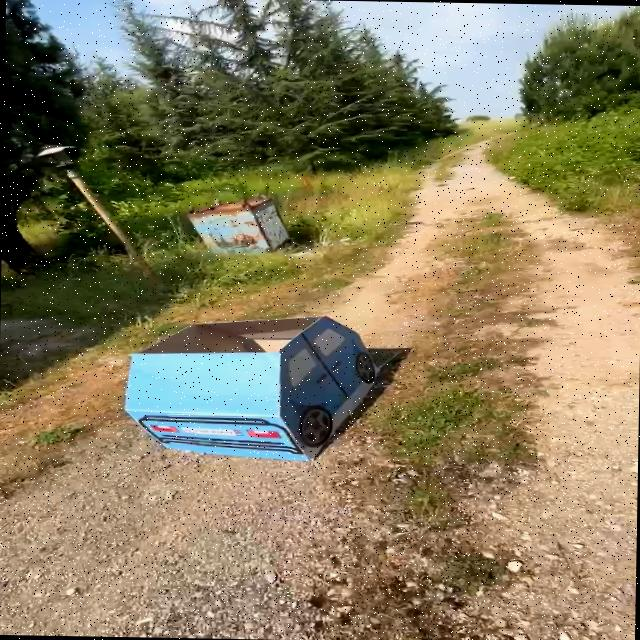blue_car: (109, 296, 391, 489)
